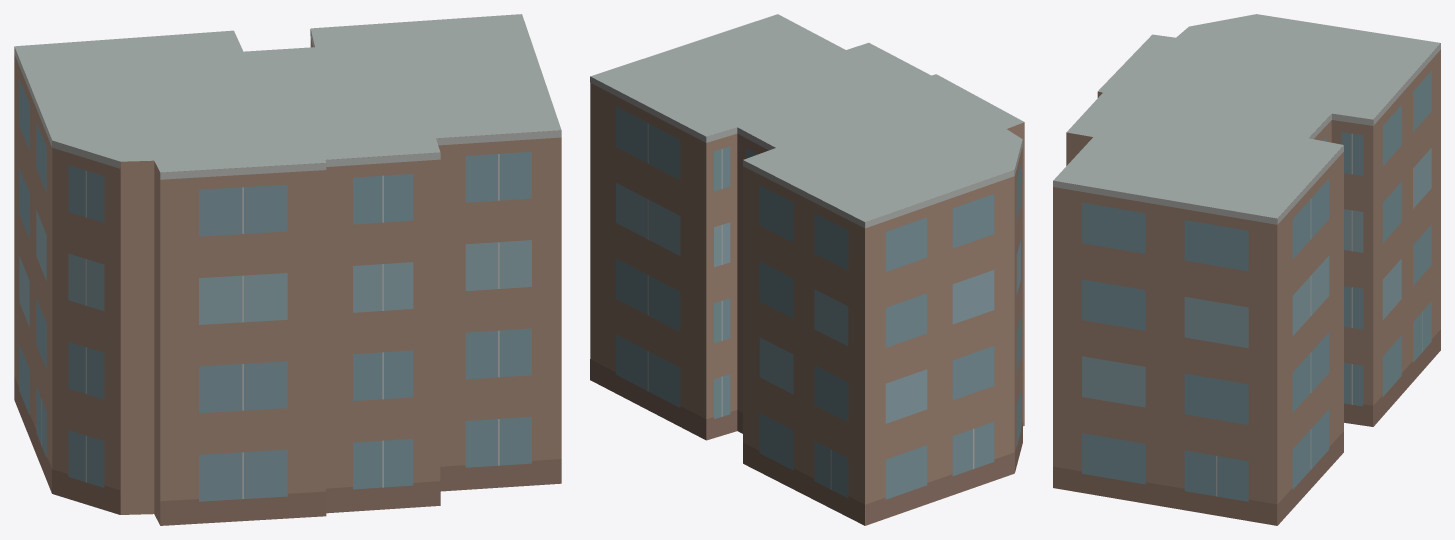
The model's file is survey-upis-32971945.glb.
3 views of the same model, side by side, from view 1: azimuth 30°, elevation 25°; view 2: azimuth 150°, elevation 25°; view 3: azimuth 270°, elevation 25° (orthographic). The views are drawn at different scales.
Visible parts, largest first — view 1: survey-upis-32971945.tmp; view 2: survey-upis-32971945.tmp; view 3: survey-upis-32971945.tmp.
Boxes of the visible parts, x1,y1,x2,y2 form: survey-upis-32971945.tmp: [14, 14, 561, 525]; survey-upis-32971945.tmp: [590, 14, 1024, 525]; survey-upis-32971945.tmp: [1053, 14, 1440, 525].
Bounding box in the file's own units: 16.99 × 11.9 × 13.62.
